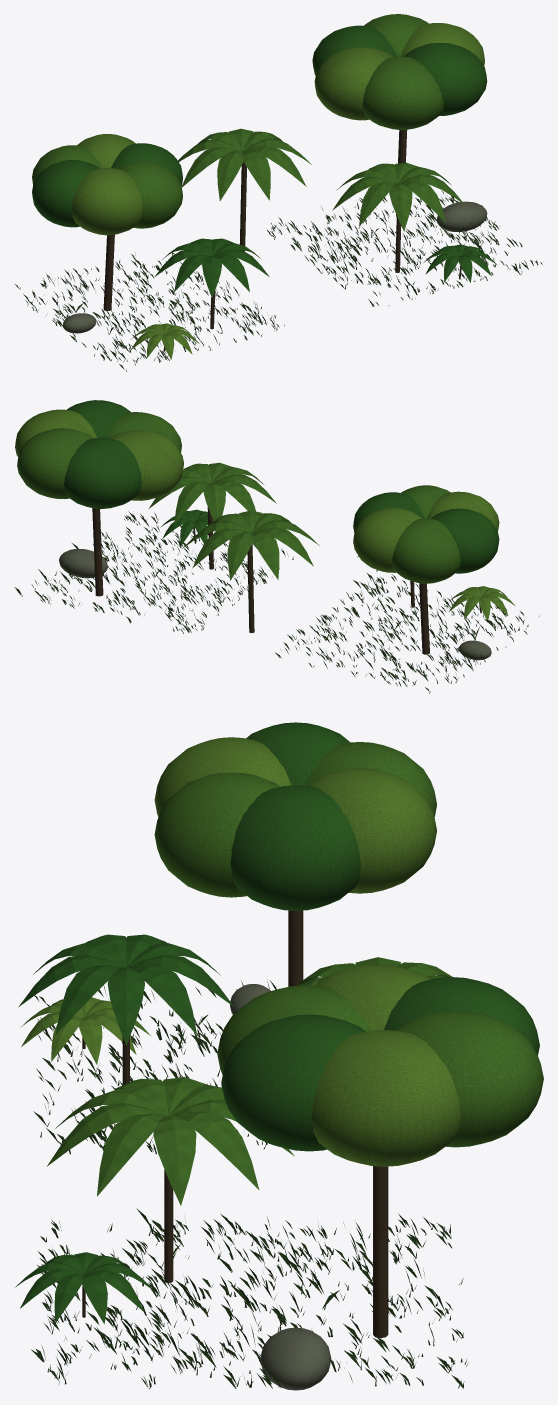
Rendered from jungle-v1.glb.
The picture shows the model from 3 angles, top to bottom: view 1: azimuth 30°, elevation 25°; view 2: azimuth 150°, elevation 25°; view 3: azimuth 270°, elevation 25°; orthographic projection. The views are drawn at different scales.
Visible parts, largest first — view 1: Grass blades, Leaf crown.007, Leaf crown.006, Leaf crown.008, Leaf crown.002, Broad fronds.004, Broad fronds.001, Leaf crown, Leaf crown.001, Broad fronds, Verge boulder, Broad fronds.003 (+3 smaller); view 2: Grass blades, Leaf crown.006, Leaf crown.007, Leaf crown.008, Leaf crown.001, Broad fronds.004, Leaf crown.002, Leaf crown, Broad fronds.001, Verge boulder, Broad fronds.002, Broad fronds.003 (+3 smaller); view 3: Leaf crown.008, Leaf crown.006, Leaf crown, Leaf crown.007, Grass blades, Leaf crown.002, Broad fronds.001, Leaf crown.001, Broad fronds, Broad fronds.003, Verge boulder, Broad fronds.002 (+4 smaller).
Part boxes in pixels (left/top/right/bottom): Grass blades: left=15, top=190, right=542, bottom=371; Leaf crown.007: left=362, top=14, right=443, bottom=129; Leaf crown.006: left=312, top=25, right=487, bottom=115; Leaf crown.008: left=314, top=23, right=484, bottom=120; Leaf crown.002: left=72, top=134, right=142, bottom=235; Broad fronds.004: left=178, top=128, right=311, bottom=200; Broad fronds.001: left=332, top=162, right=464, bottom=231; Leaf crown: left=32, top=143, right=182, bottom=227; Leaf crown.001: left=32, top=145, right=182, bottom=228; Broad fronds: left=154, top=238, right=269, bottom=297; Verge boulder: left=62, top=201, right=487, bottom=333; Broad fronds.003: left=423, top=244, right=497, bottom=282; Grass blades: left=14, top=511, right=539, bottom=693; Leaf crown.006: left=64, top=400, right=141, bottom=508; Leaf crown.007: left=17, top=412, right=181, bottom=498; Leaf crown.008: left=15, top=409, right=183, bottom=500; Leaf crown.001: left=392, top=485, right=460, bottom=583; Broad fronds.004: left=182, top=510, right=319, bottom=580; Leaf crown.002: left=353, top=491, right=499, bottom=572; Leaf crown: left=353, top=492, right=499, bottom=573; Broad fronds.001: left=148, top=462, right=276, bottom=524; Verge boulder: left=59, top=549, right=491, bottom=660; Broad fronds.002: left=449, top=586, right=515, bottom=619; Broad fronds.003: left=160, top=509, right=221, bottom=545; Leaf crown.008: left=311, top=964, right=460, bottom=1166; Leaf crown.006: left=221, top=977, right=539, bottom=1151; Leaf crown: left=230, top=722, right=360, bottom=910; Leaf crown.007: left=217, top=985, right=543, bottom=1147; Grass blades: left=31, top=979, right=467, bottom=1389; Leaf crown.002: left=154, top=737, right=436, bottom=893; Broad fronds.001: left=47, top=1077, right=294, bottom=1205; Leaf crown.001: left=154, top=742, right=436, bottom=897; Broad fronds: left=18, top=934, right=233, bottom=1045; Broad fronds.003: left=15, top=1252, right=154, bottom=1324; Verge boulder: left=230, top=984, right=331, bottom=1390; Broad fronds.002: left=20, top=997, right=151, bottom=1064.
Size of what is drawn, in the model's own units: 23.65 by 8.89 by 12.51.
6 materials, 6 textured.
